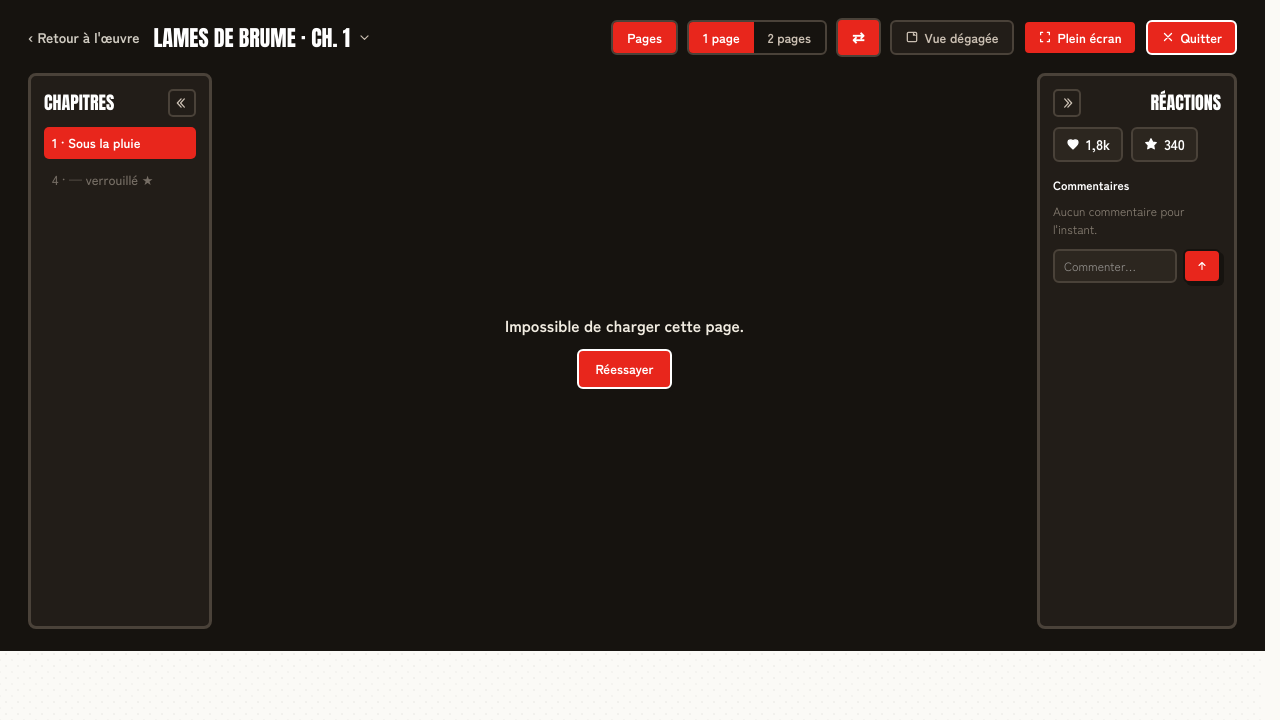
Test: Reader (DR-4 FE-1) › shows an error card with a working retry when the pages fetch fails
Check: the message "Impossible de charger cette page. Réessayer" is shown, box [505, 313, 744, 388]
Click the button "Réessayer" at (624, 369), box [577, 349, 672, 388]
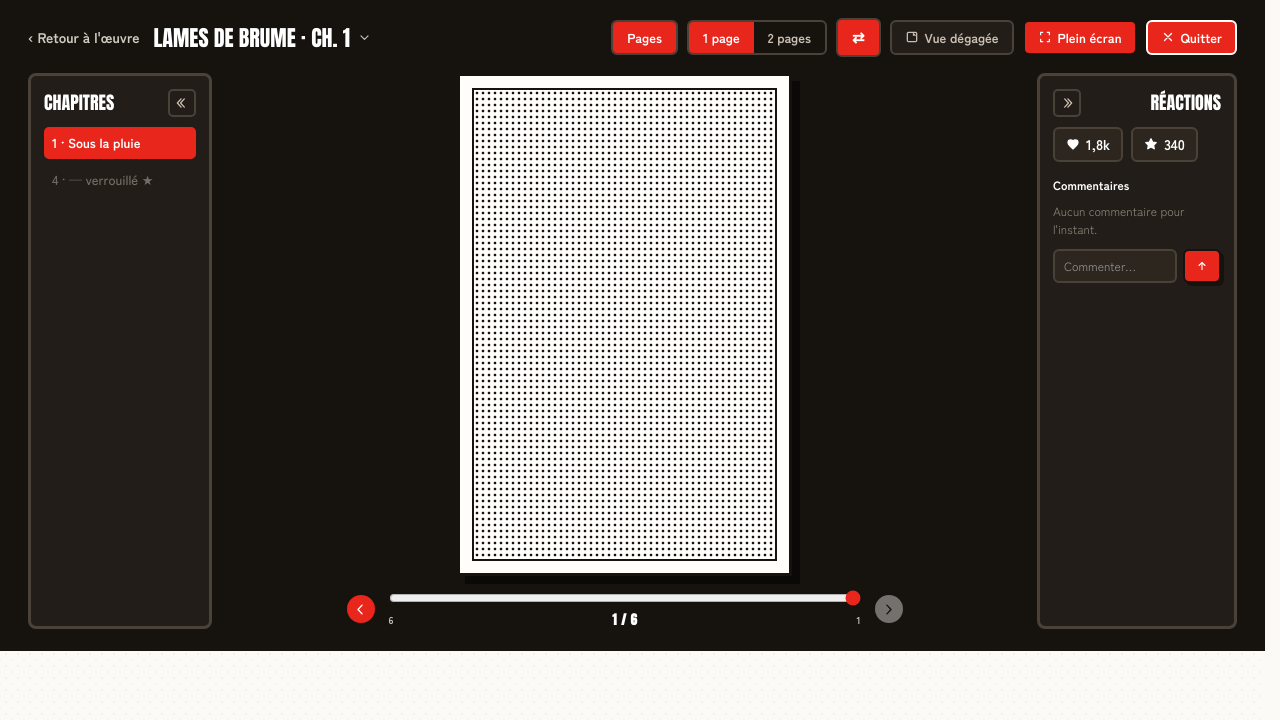
Check: the slider is shown, box [388, 590, 860, 606]
